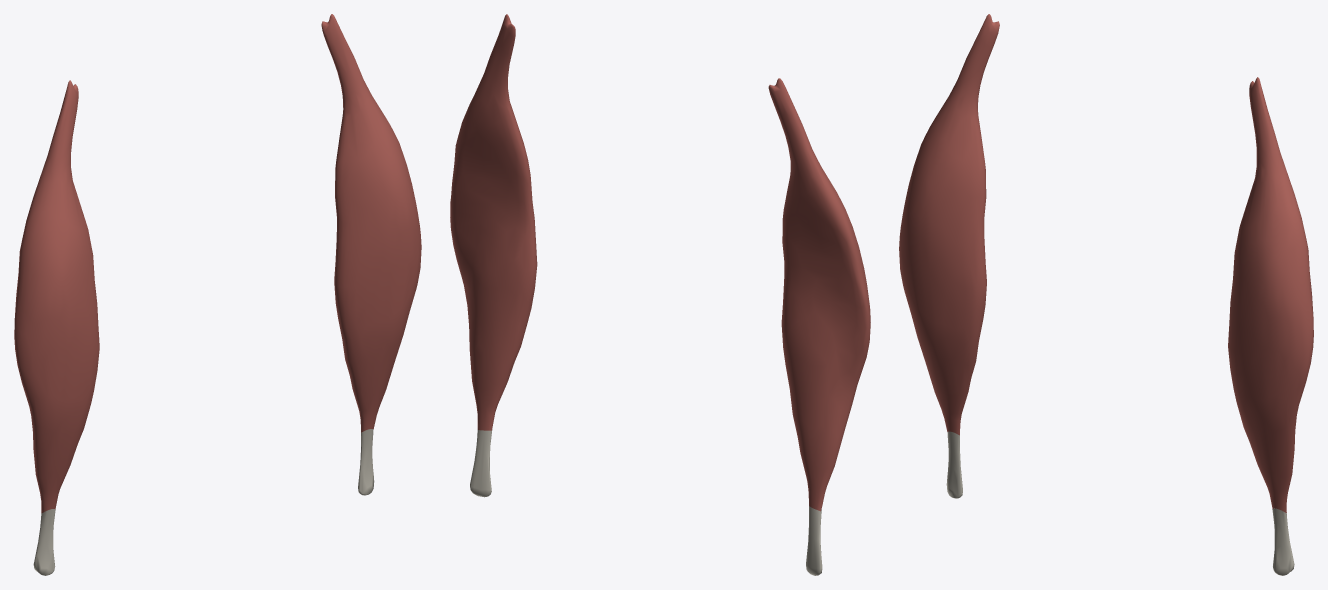
Rendered from adult_female.muscular.LOD2.glb.
The picture shows the model from 3 angles, left to right: view 1: azimuth 30°, elevation 25°; view 2: azimuth 150°, elevation 25°; view 3: azimuth 330°, elevation 25°; orthographic projection. The views are drawn at different scales.
Parts seen in each view (by area): view 1: ADULT.FEMALE.MUSCULAR.RECTUS_FEMORIS.L, ADULT.FEMALE.MUSCULAR.RECTUS_FEMORIS.R, ADULT.FEMALE.MUSCULAR.TENDON_OF_QUADRICEPS_FEMORIS.R, ADULT.FEMALE.MUSCULAR.TENDON_OF_QUADRICEPS_FEMORIS.L; view 2: ADULT.FEMALE.MUSCULAR.RECTUS_FEMORIS.R, ADULT.FEMALE.MUSCULAR.RECTUS_FEMORIS.L, ADULT.FEMALE.MUSCULAR.TENDON_OF_QUADRICEPS_FEMORIS.L, ADULT.FEMALE.MUSCULAR.TENDON_OF_QUADRICEPS_FEMORIS.R; view 3: ADULT.FEMALE.MUSCULAR.RECTUS_FEMORIS.R, ADULT.FEMALE.MUSCULAR.RECTUS_FEMORIS.L, ADULT.FEMALE.MUSCULAR.TENDON_OF_QUADRICEPS_FEMORIS.L, ADULT.FEMALE.MUSCULAR.TENDON_OF_QUADRICEPS_FEMORIS.R.
Boxes of the visible parts, <box> form: ADULT.FEMALE.MUSCULAR.RECTUS_FEMORIS.L: <box>321,14,421,432</box>; ADULT.FEMALE.MUSCULAR.RECTUS_FEMORIS.R: <box>14,80,99,513</box>; ADULT.FEMALE.MUSCULAR.TENDON_OF_QUADRICEPS_FEMORIS.R: <box>33,509,55,575</box>; ADULT.FEMALE.MUSCULAR.TENDON_OF_QUADRICEPS_FEMORIS.L: <box>358,429,374,495</box>; ADULT.FEMALE.MUSCULAR.RECTUS_FEMORIS.R: <box>768,78,870,511</box>; ADULT.FEMALE.MUSCULAR.RECTUS_FEMORIS.L: <box>450,14,537,430</box>; ADULT.FEMALE.MUSCULAR.TENDON_OF_QUADRICEPS_FEMORIS.L: <box>470,430,492,497</box>; ADULT.FEMALE.MUSCULAR.TENDON_OF_QUADRICEPS_FEMORIS.R: <box>806,506,822,575</box>; ADULT.FEMALE.MUSCULAR.RECTUS_FEMORIS.R: <box>899,14,999,435</box>; ADULT.FEMALE.MUSCULAR.RECTUS_FEMORIS.L: <box>1228,77,1313,512</box>; ADULT.FEMALE.MUSCULAR.TENDON_OF_QUADRICEPS_FEMORIS.L: <box>1272,508,1294,575</box>; ADULT.FEMALE.MUSCULAR.TENDON_OF_QUADRICEPS_FEMORIS.R: <box>946,431,962,498</box>.
Size of the model in its own units: 0.3555 by 0.4035 by 0.0508.
